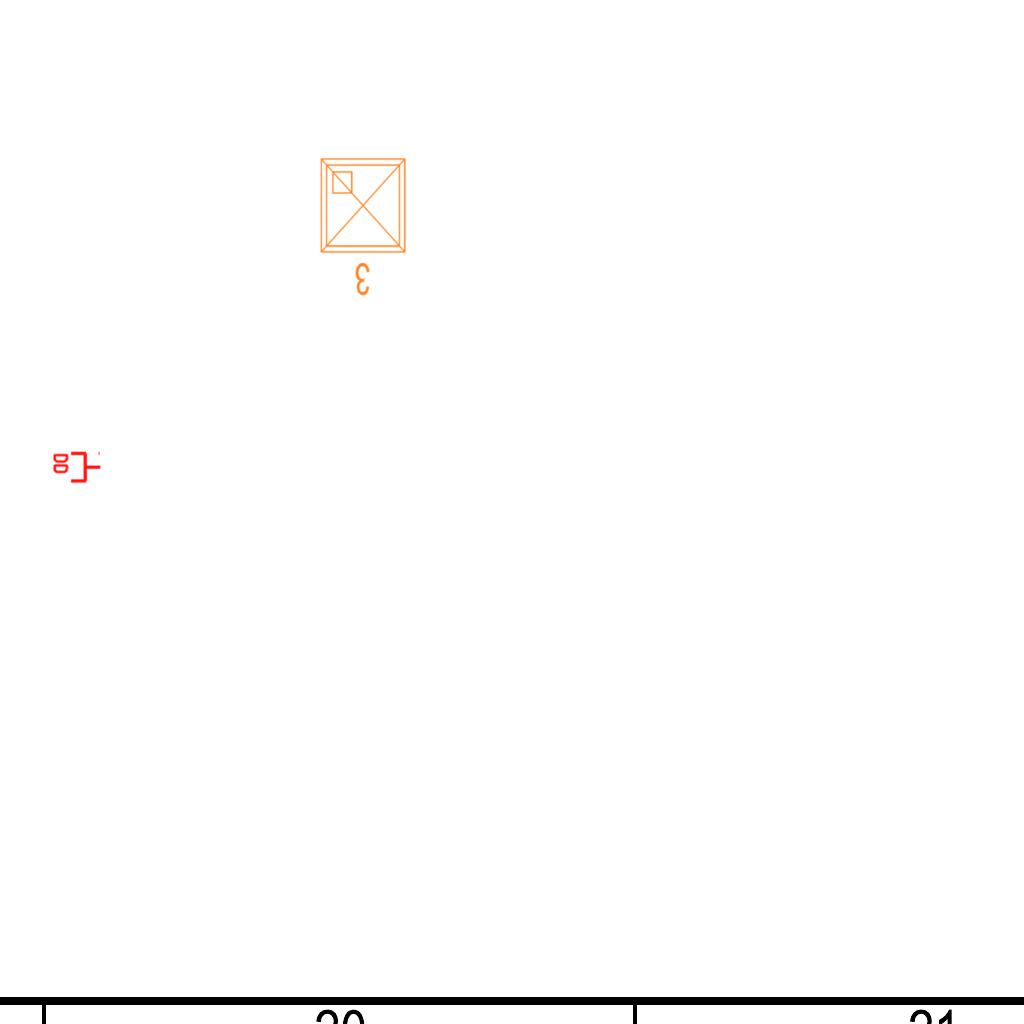Datenanschluss_zweifach: (51, 451, 102, 485)
Einbaudownlights_LED_Konferenzraeume: (313, 151, 417, 301)
